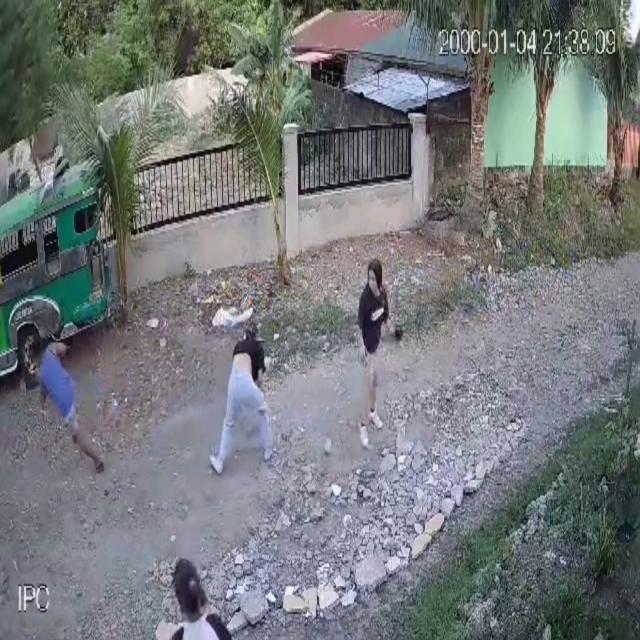running: (25, 328, 108, 478)
walking: (355, 253, 405, 452), (162, 555, 240, 640)
